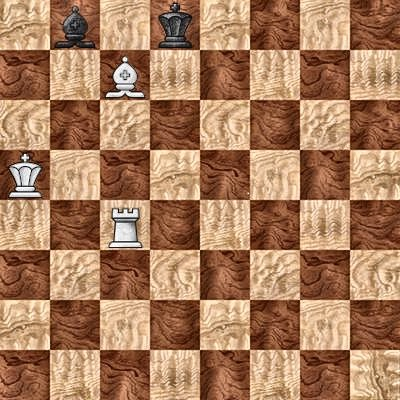black-bishop: (50, 0, 100, 50)
black-king: (150, 0, 200, 50)
white-bishop: (100, 50, 150, 100)
white-king: (0, 150, 50, 200)
white-rook: (100, 200, 150, 250)
